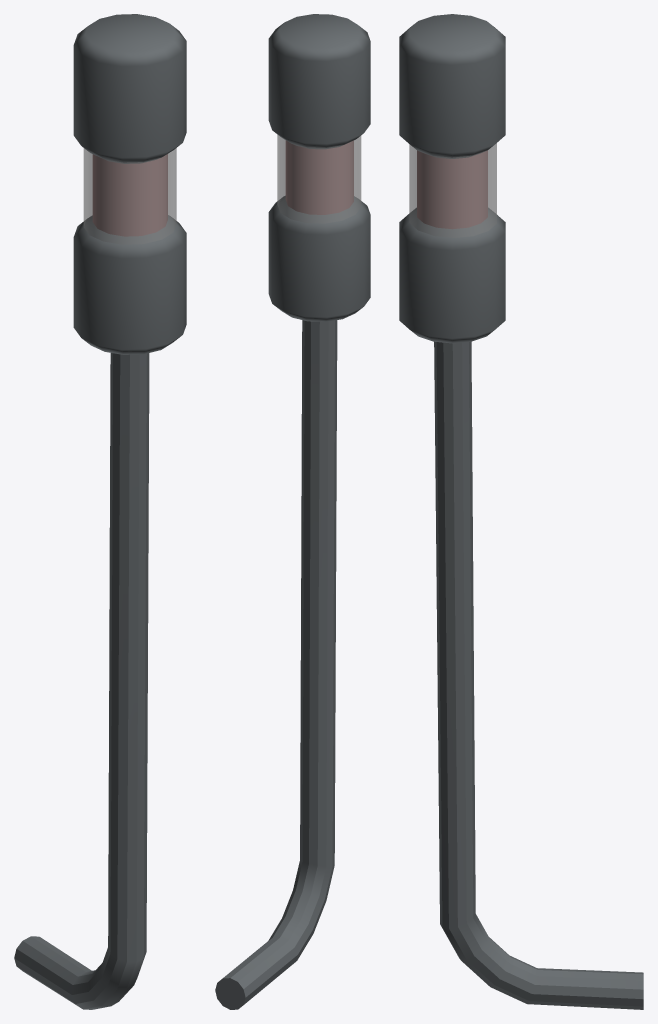
File: Conveyor_Light_1.fbx
3 renders of one model, left to right at view 1: azimuth 30°, elevation 25°; view 2: azimuth 150°, elevation 25°; view 3: azimuth 270°, elevation 25°, orthographic. The views are drawn at different scales.
Parts seen in each view (by area): view 1: pCylinder26; view 2: pCylinder26; view 3: pCylinder26.
Boxes of the visible parts, x1,y1,x2,y2 form: pCylinder26: (14,14,186,1009); pCylinder26: (215,14,370,1009); pCylinder26: (399,14,643,1009).
Bounding box in the file's own units: 0.0534 × 0.5262 × 0.1196.
